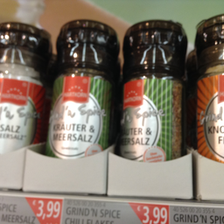spices: (45, 19, 116, 159), (120, 19, 187, 161), (1, 22, 47, 149), (195, 14, 224, 159)
